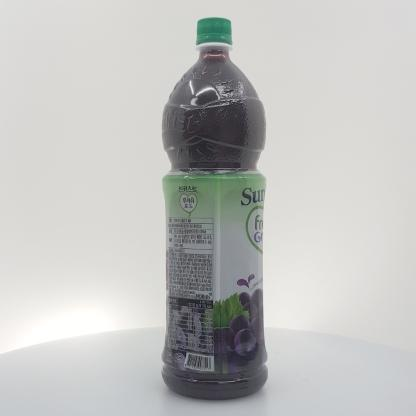-------50_1-5L: (161, 18, 268, 400)
